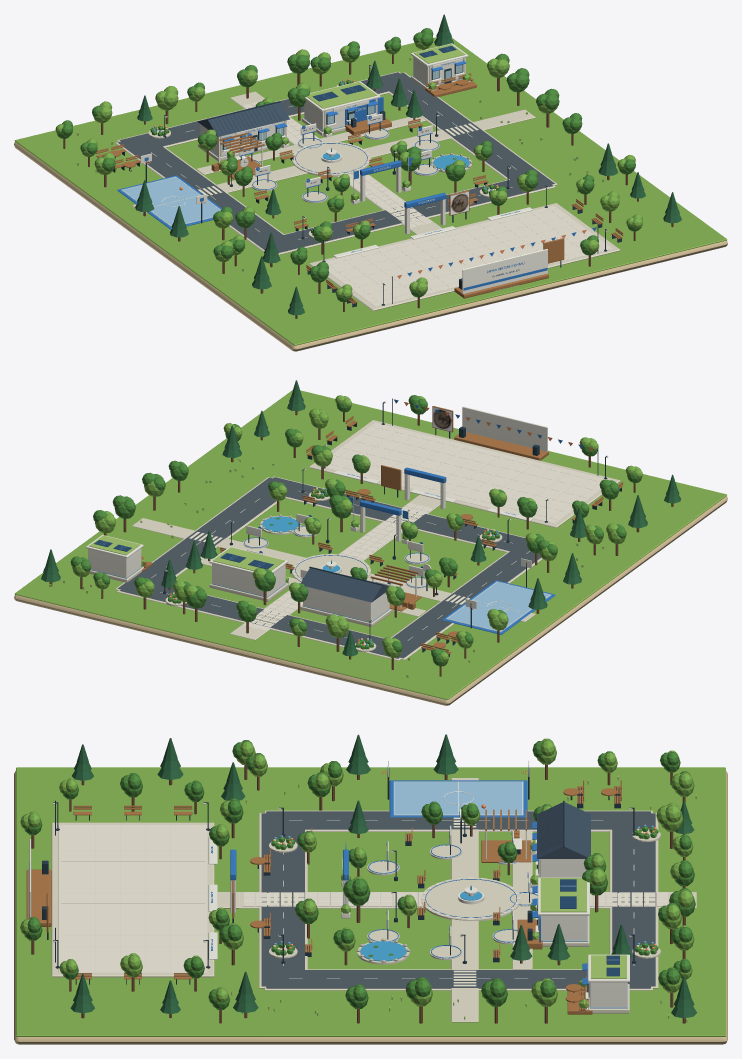
File: world.glb
The picture shows the model from 3 angles, top to bottom: view 1: azimuth 30°, elevation 25°; view 2: azimuth 150°, elevation 25°; view 3: azimuth 270°, elevation 25°; orthographic projection. The views are drawn at different scales.
Visible parts, largest first — view 1: Campus lawn, Scenery_Paving_light, Scenery_Road_asphalt, Scenery_Path_limestone, Island edge, Scenery_Timber, Building_occluder, Reunion_stage, Building_occluder.001, Scenery_White_plaster, Court playing field, Scenery_Blue_accent (+5 smaller); view 2: Campus lawn, Scenery_Paving_light, Scenery_Road_asphalt, Scenery_Path_limestone, Island edge, Building_occluder, Reunion_stage, Scenery_Timber, Building_occluder.001, Court playing field, Building_occluder.002, Scenery_White_plaster (+7 smaller); view 3: Campus lawn, Scenery_Paving_light, Scenery_Road_asphalt, Scenery_Path_limestone, Island edge, Scenery_Timber, Court playing field, Building_occluder, Building_occluder.001, Central plaza, Reunion Commons, Building_occluder.002 (+30 smaller).
Part boxes in pixels (left/top/right/bottom): Campus lawn: left=14, top=37, right=727, bottom=345; Scenery_Paving_light: left=164, top=66, right=612, bottom=306; Scenery_Road_asphalt: left=118, top=72, right=554, bottom=252; Scenery_Path_limestone: left=115, top=71, right=606, bottom=303; Island edge: left=14, top=142, right=727, bottom=351; Scenery_Timber: left=96, top=73, right=623, bottom=303; Building_occluder: left=197, top=101, right=289, bottom=161; Reunion_stage: left=454, top=249, right=548, bottom=298; Building_occluder.001: left=302, top=81, right=380, bottom=136; Scenery_White_plaster: left=122, top=81, right=532, bottom=258; Court playing field: left=121, top=176, right=220, bottom=227; Scenery_Blue_accent: left=144, top=97, right=596, bottom=276; Campus lawn: left=15, top=390, right=726, bottom=699; Scenery_Paving_light: left=165, top=402, right=610, bottom=630; Scenery_Road_asphalt: left=118, top=477, right=540, bottom=658; Scenery_Path_limestone: left=115, top=425, right=598, bottom=660; Island edge: left=14, top=496, right=727, bottom=705; Building_occluder: left=300, top=566, right=391, bottom=626; Reunion_stage: left=454, top=406, right=548, bottom=460; Scenery_Timber: left=141, top=406, right=623, bottom=654; Building_occluder.001: left=209, top=546, right=288, bottom=601; Court playing field: left=446, top=581, right=551, bottom=632; Building_occluder.002: left=86, top=535, right=143, bottom=582; Scenery_White_plaster: left=141, top=470, right=550, bottom=631; Campus lawn: left=16, top=767, right=725, bottom=1036; Scenery_Paving_light: left=53, top=802, right=667, bottom=972; Scenery_Road_asphalt: left=261, top=811, right=655, bottom=988; Scenery_Path_limestone: left=61, top=778, right=696, bottom=1022; Island edge: left=14, top=771, right=727, bottom=1044; Scenery_Timber: left=46, top=780, right=621, bottom=1010; Court playing field: left=393, top=781, right=523, bottom=815; Building_occluder: left=532, top=800, right=590, bottom=877; Building_occluder.001: left=532, top=877, right=589, bottom=946; Central plaza: left=421, top=877, right=521, bottom=921; Reunion Commons: left=51, top=822, right=214, bottom=977; Building_occluder.002: left=582, top=954, right=629, bottom=1013.
Bounding box in the file's own units: 51 × 5.02 × 57.
26 materials, 1 textured.
